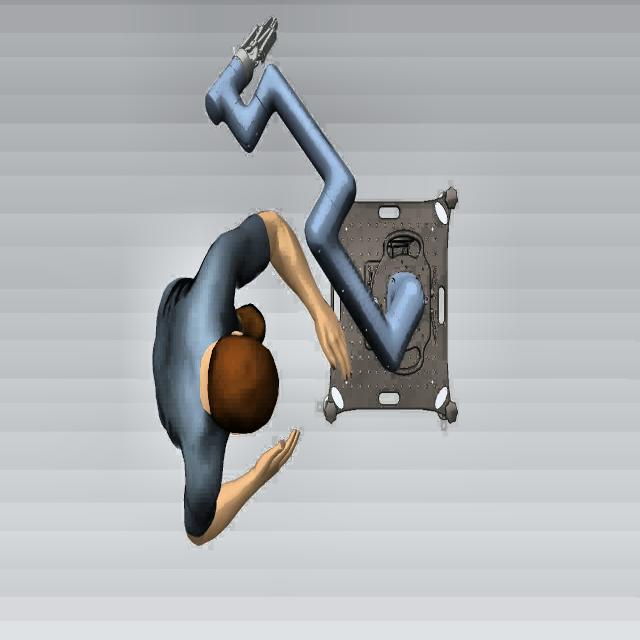robot: (201, 8, 431, 382)
